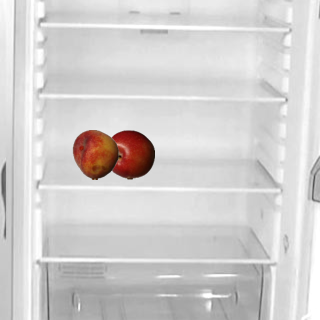Apple Braeburn: (104, 129, 154, 179)
Peach: (70, 129, 120, 179)
